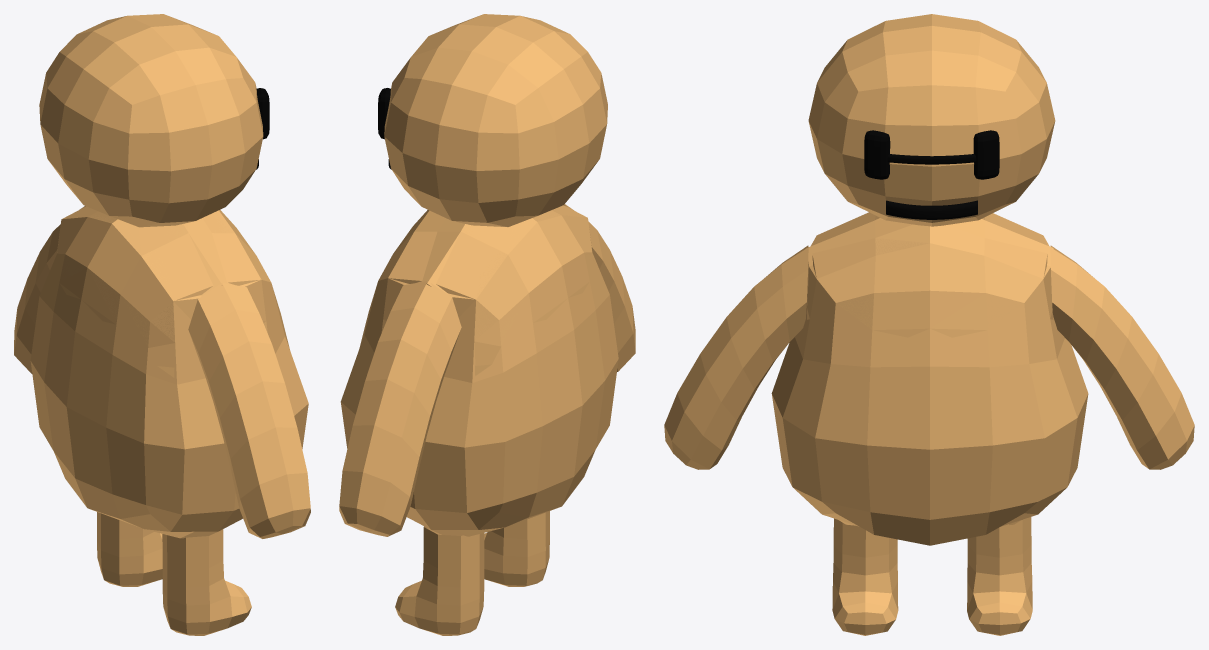
Rendered from character.fbx.
The picture shows the model from 3 angles, left to right: view 1: azimuth 30°, elevation 25°; view 2: azimuth 150°, elevation 25°; view 3: azimuth 270°, elevation 25°; orthographic projection.
Visible parts, largest first — view 1: Cube.001, Cube, Cube.004, Cube.003, Cube.002; view 2: Cube.001, Cube, Cube.004, Cube.003, Cube.002; view 3: Cube.001, Cube, Cube.004, Cube.003, Cube.002, NurbsPath.001, NurbsPath.
Boxes of the visible parts, bbox=[...] form: Cube.001: bbox=[30, 206, 308, 531]; Cube: bbox=[39, 14, 269, 227]; Cube.004: bbox=[14, 206, 310, 538]; Cube.003: bbox=[97, 512, 251, 635]; Cube.002: bbox=[57, 210, 269, 538]; Cube.001: bbox=[340, 205, 618, 529]; Cube: bbox=[378, 14, 607, 227]; Cube.004: bbox=[339, 204, 635, 536]; Cube.003: bbox=[395, 511, 549, 635]; Cube.002: bbox=[378, 212, 597, 536]; Cube.001: bbox=[771, 212, 1088, 545]; Cube: bbox=[808, 14, 1055, 226]; Cube.004: bbox=[664, 245, 1194, 469]; Cube.003: bbox=[832, 517, 1032, 635]; Cube.002: bbox=[772, 218, 1088, 525]; NurbsPath.001: bbox=[886, 200, 977, 219]; NurbsPath: bbox=[887, 154, 976, 164].
Bounding box in the file's own units: 172 × 441 × 361.
